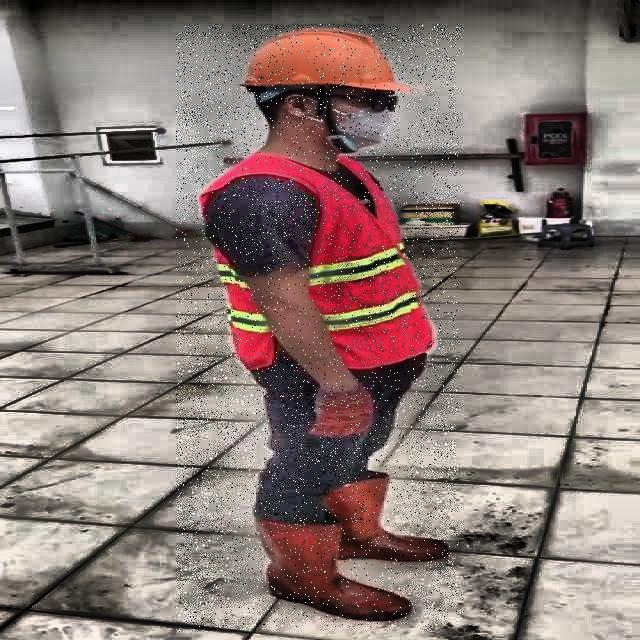safety_helmet: (232, 26, 398, 92)
safety_jacket: (192, 158, 438, 368)
